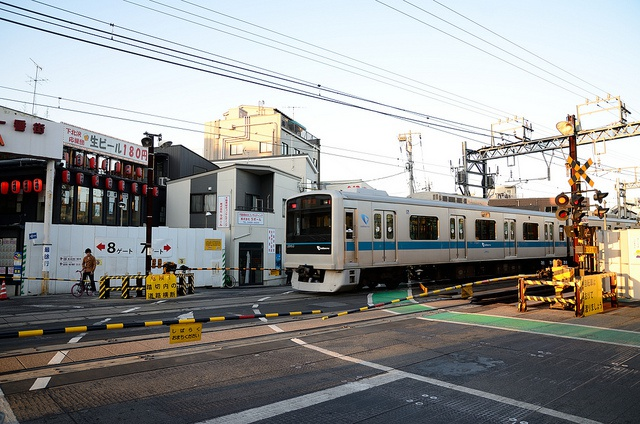non-vehicle: (71, 268, 93, 296), (225, 274, 236, 287)
